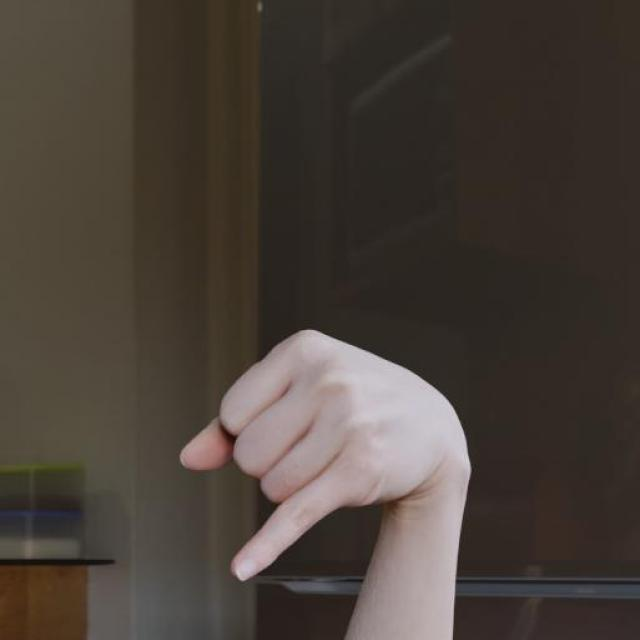J: (177, 325, 472, 581)
